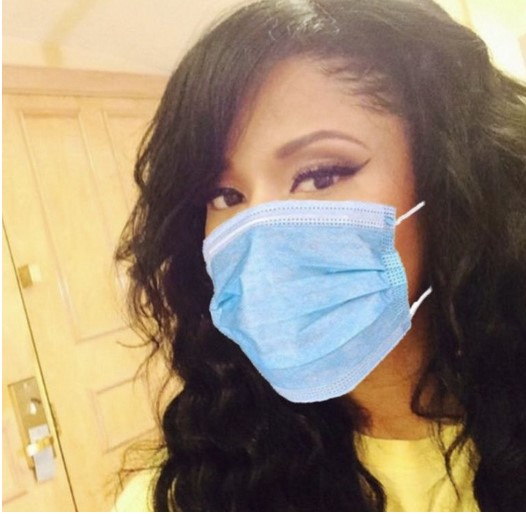face_with_mask: (172, 1, 495, 414)
